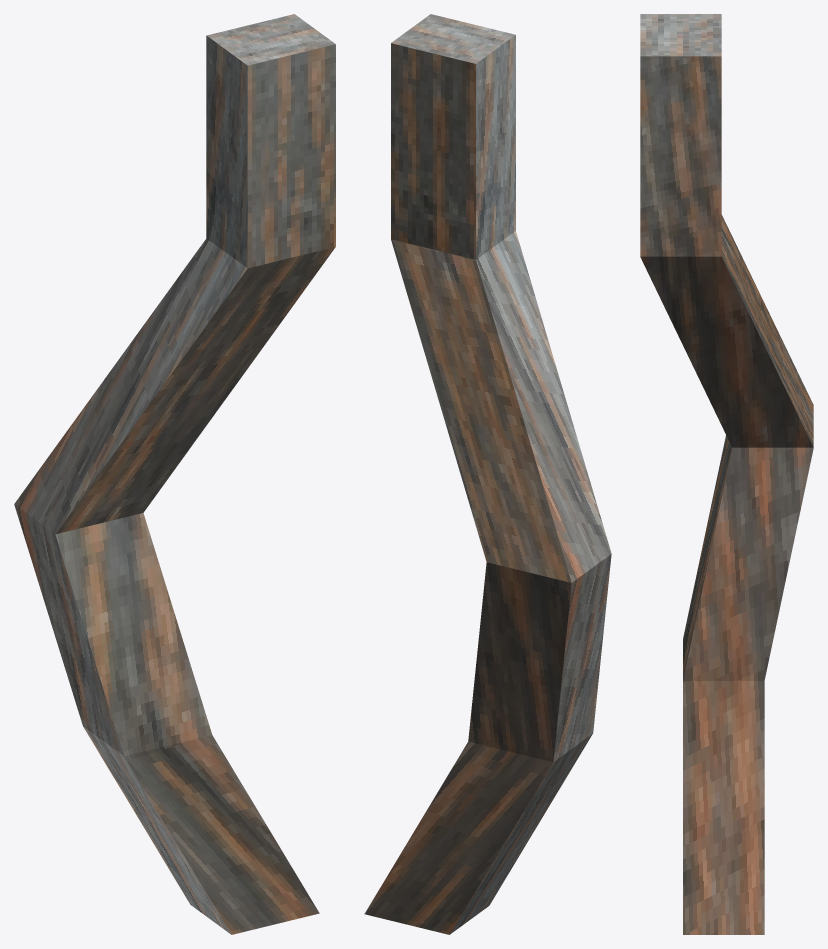
Rendered from Tree3.glb.
3 renders of one model, left to right at view 1: azimuth 30°, elevation 25°; view 2: azimuth 150°, elevation 25°; view 3: azimuth 270°, elevation 25°, orthographic. The views are drawn at different scales.
Visible parts, largest first — view 1: Cube.002; view 2: Cube.002; view 3: Cube.002.
Boxes of the visible parts, x1,y1,x2,y2 form: Cube.002: [14, 14, 335, 934]; Cube.002: [364, 14, 611, 934]; Cube.002: [640, 14, 813, 934].
Size of the model in its own units: 2.45 by 8.66 by 1.56.
1 material, 1 textured.
